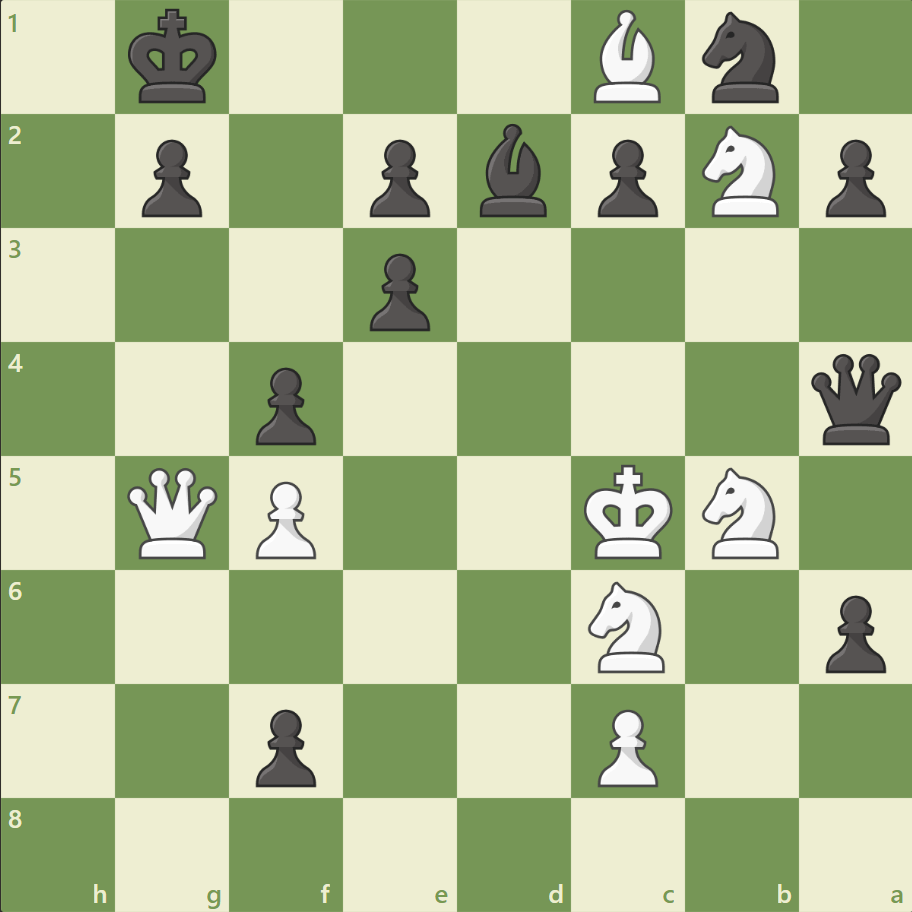B: (585, 6, 669, 109)
K: (579, 458, 679, 566)
N: (692, 461, 789, 564), (579, 575, 676, 677), (692, 121, 789, 223)
P: (247, 473, 322, 564), (588, 700, 662, 791)
Q: (124, 463, 223, 562)
b: (471, 120, 555, 222)
k: (124, 4, 224, 112)
n: (692, 7, 789, 110)
p: (247, 700, 322, 791), (247, 359, 322, 450), (133, 132, 208, 223), (815, 586, 889, 677), (361, 246, 435, 337), (815, 132, 889, 223), (588, 132, 662, 223), (361, 132, 435, 223)
q: (805, 349, 904, 449)
